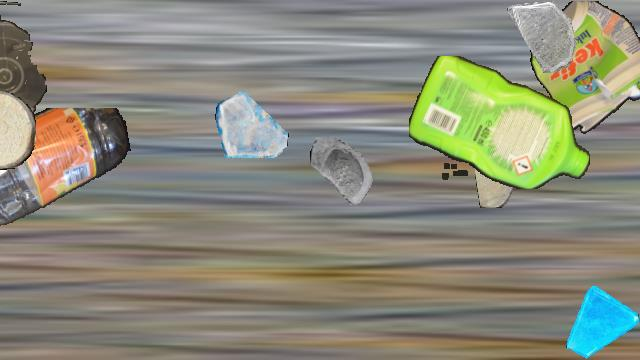glass: (309, 137, 385, 213), (215, 88, 289, 162), (564, 285, 638, 359), (507, 1, 579, 73)
plastic: (409, 56, 591, 188), (0, 108, 133, 248), (529, 1, 640, 139), (0, 1, 48, 133)
wood: (475, 134, 513, 208), (0, 91, 35, 169)
